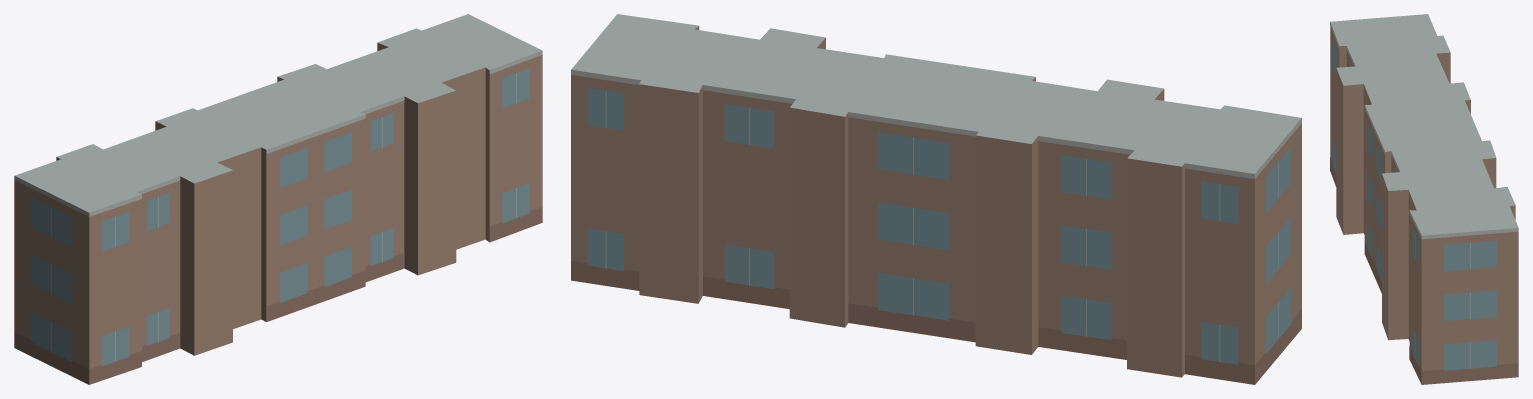
Rendered from survey-upis-32648944.glb.
3 views of the same model, side by side, from view 1: azimuth 30°, elevation 25°; view 2: azimuth 150°, elevation 25°; view 3: azimuth 270°, elevation 25° (orthographic). The views are drawn at different scales.
Visible parts, largest first — view 1: survey-upis-32648944.tmp; view 2: survey-upis-32648944.tmp; view 3: survey-upis-32648944.tmp.
Part boxes in pixels (x1,y1,x2,y2): survey-upis-32648944.tmp: (14, 14, 542, 384); survey-upis-32648944.tmp: (571, 14, 1301, 384); survey-upis-32648944.tmp: (1330, 14, 1518, 384).
Size of the model in its own units: 31.88 by 10 by 11.46.
